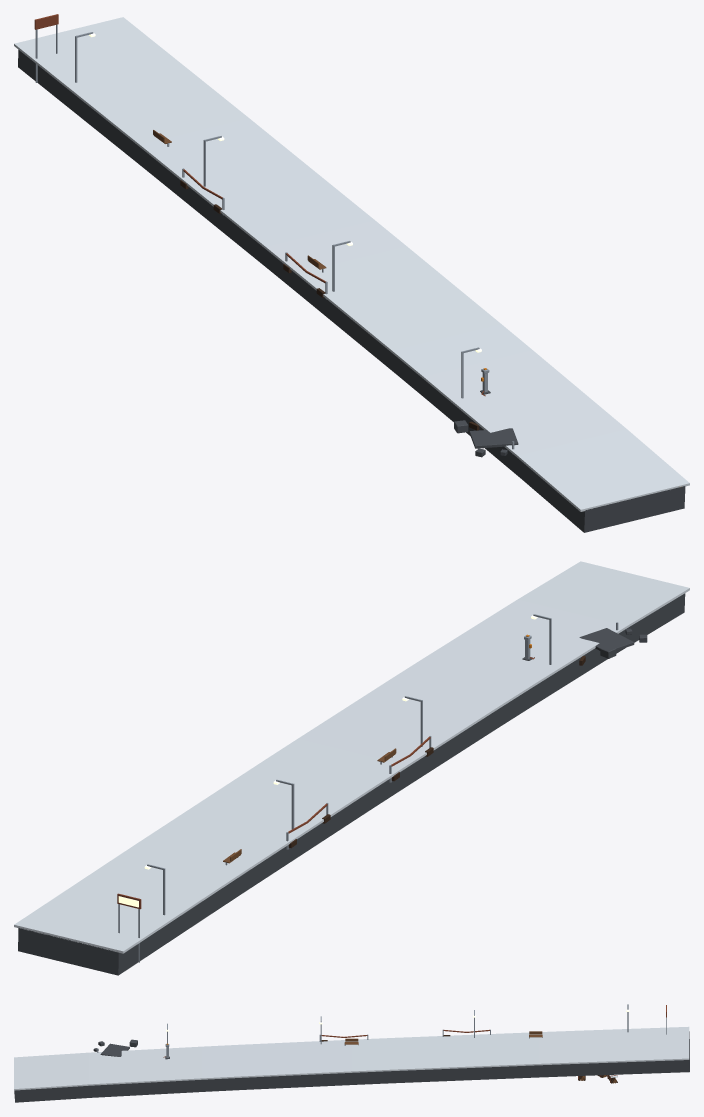
Rendered from DepotPlatform_-2_-2.fbx.
3 renders of one model, top to bottom at view 1: azimuth 30°, elevation 25°; view 2: azimuth 150°, elevation 25°; view 3: azimuth 270°, elevation 25°, orthographic. The views are drawn at different scales.
Visible parts, largest first — view 1: DepotPlatform_-2_-2; view 2: DepotPlatform_-2_-2; view 3: DepotPlatform_-2_-2.
Part boxes in pixels (bbox=[...]): DepotPlatform_-2_-2: bbox=[14, 14, 689, 532]; DepotPlatform_-2_-2: bbox=[14, 561, 689, 975]; DepotPlatform_-2_-2: bbox=[14, 1004, 689, 1102].
Bounding box in the file's own units: 1261 × 1018 × 8809.
